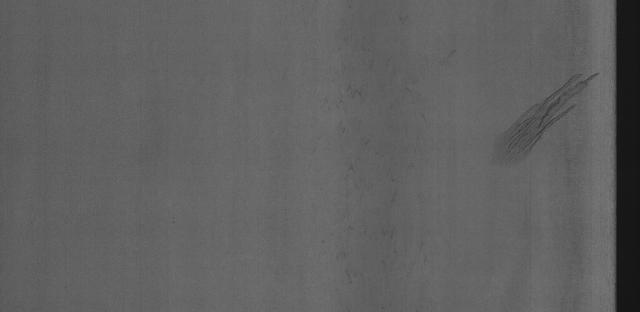silk_spot: (323, 42, 434, 287)
water_spot: (474, 59, 605, 177)
